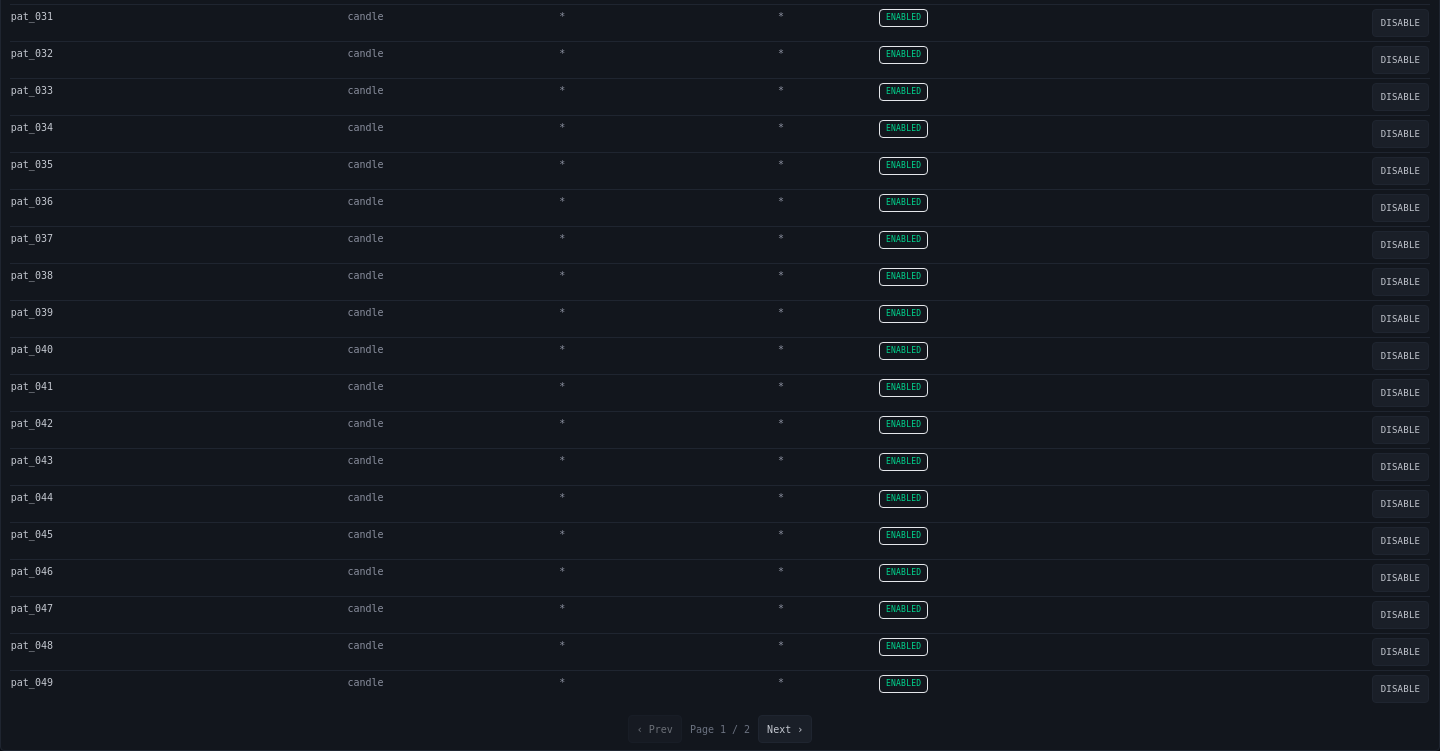
Test case: Admin/PatternsAdmin page › paginates: 60 rows -> page 1 shows 50, Next shows 10
(page scrolled)
Expected: the text "pat_049" is shown, left=10, top=671, right=346, bottom=707
Expected: the text "pat_050" is not shown
Step 1. Click the button "Next ›" → (785, 729), box left=758, top=715, right=812, bottom=743
(page scrolled)
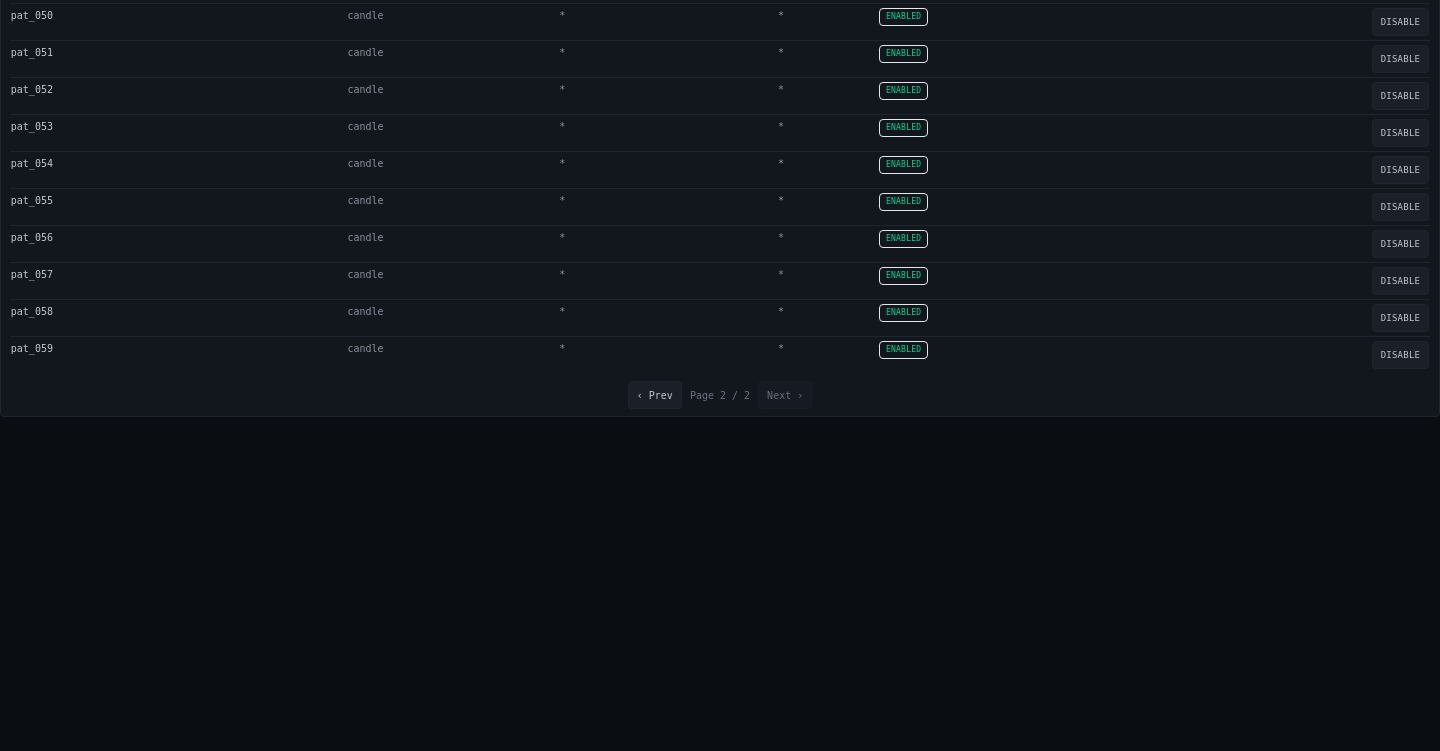
Now the text "pat_050" is shown, box left=10, top=4, right=346, bottom=41
Now the text "pat_059" is shown, box left=10, top=337, right=346, bottom=373
